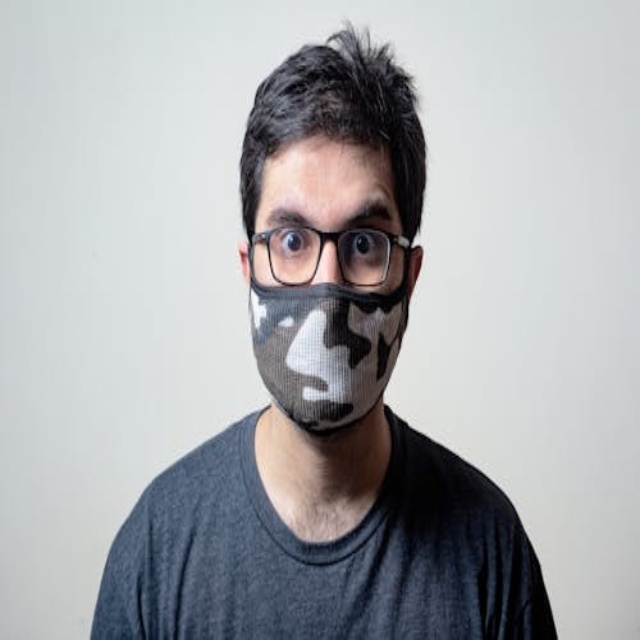Gafas: (247, 225, 412, 290)
Mascara: (246, 258, 409, 432)
